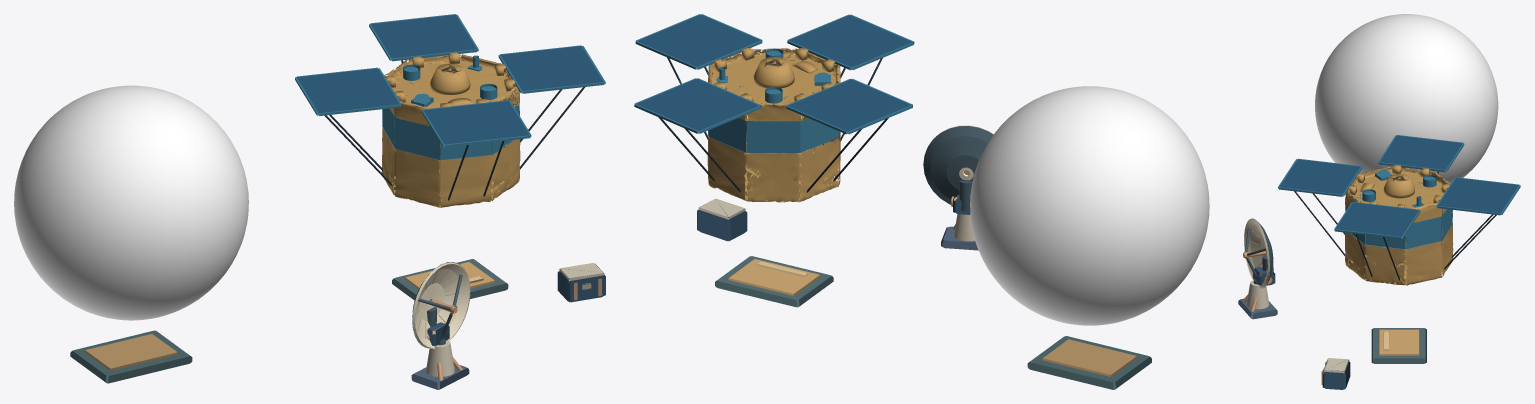
The model's file is tierra.obj.
3 views of the same model, side by side, from view 1: azimuth 30°, elevation 25°; view 2: azimuth 150°, elevation 25°; view 3: azimuth 270°, elevation 25° (orthographic). The views are drawn at different scales.
Visible parts, largest first — view 1: tierra; view 2: tierra; view 3: tierra.
Part boxes in pixels (box(x1,y1,x2,y2)): tierra: box(14, 14, 605, 389); tierra: box(634, 14, 1209, 389); tierra: box(1238, 14, 1520, 389).
Size of the model in its own units: 1.49 by 0.685 by 0.8496.
